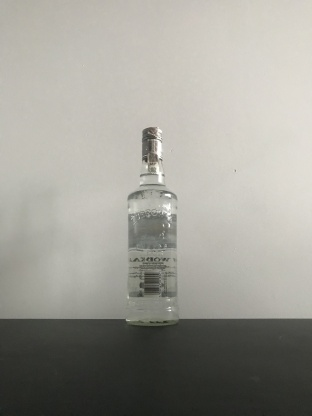nakretka: (140, 123, 164, 162)
